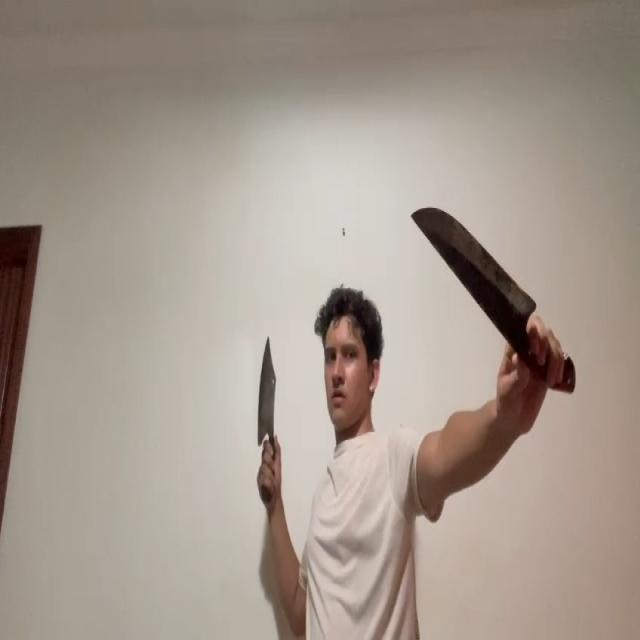knife: (411, 204, 536, 318), (258, 333, 276, 443)
